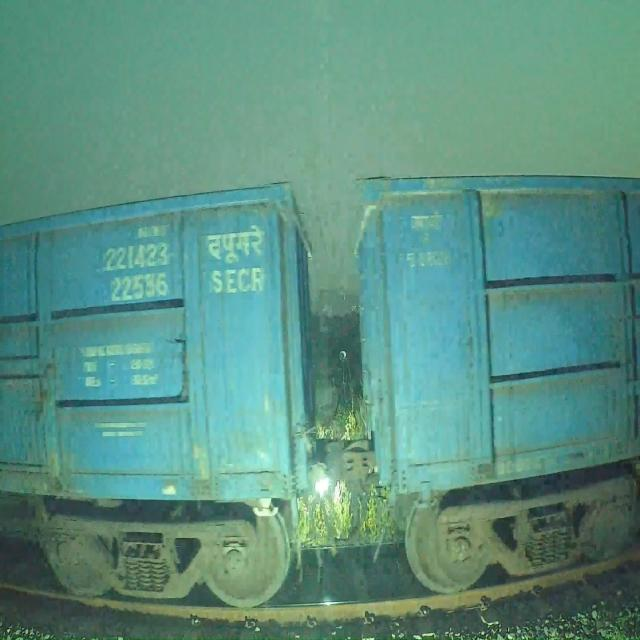WAgon-uic: (0, 179, 316, 602), (355, 172, 640, 588)
uic: (100, 238, 171, 307)
